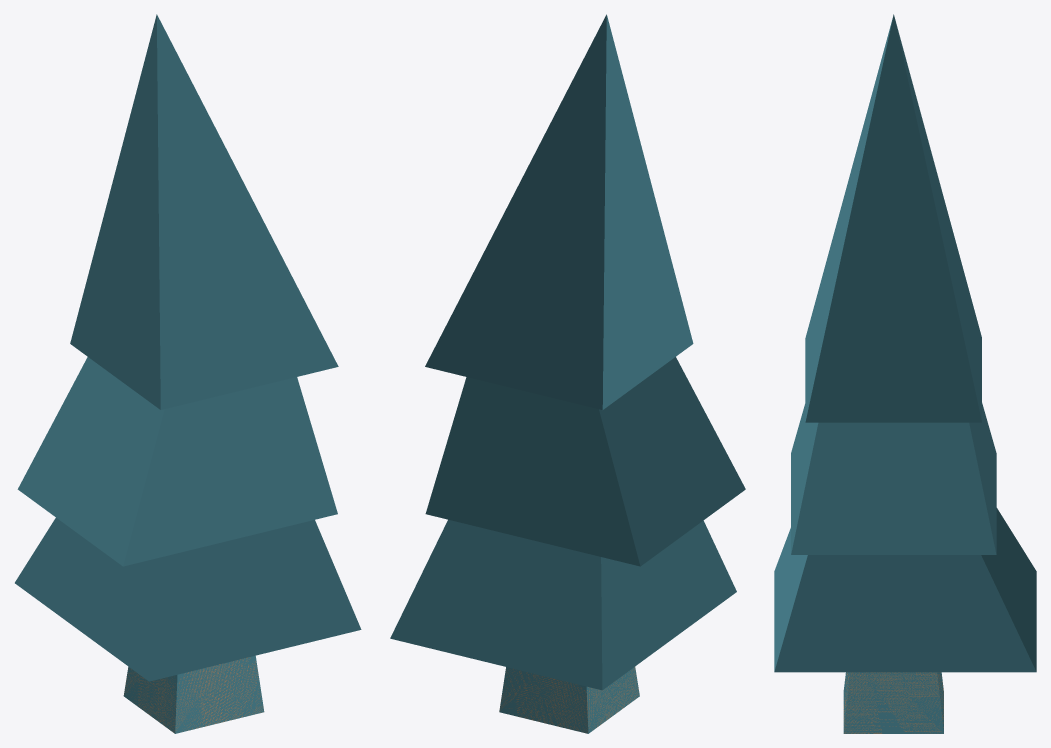
Rendered from tree_pineSmall_square2.obj.
3 renders of one model, left to right at view 1: azimuth 30°, elevation 25°; view 2: azimuth 150°, elevation 25°; view 3: azimuth 270°, elevation 25°, orthographic. The views are drawn at different scales.
Parts seen in each view (by area): view 1: tree_pineSmall_square2; view 2: tree_pineSmall_square2; view 3: tree_pineSmall_square2.
Part boxes in pixels (<box>): tree_pineSmall_square2: <box>15,14,361,733</box>; tree_pineSmall_square2: <box>390,14,745,733</box>; tree_pineSmall_square2: <box>774,14,1036,733</box>.
Bounding box in the file's own units: 3.86 × 11.23 × 3.92.
